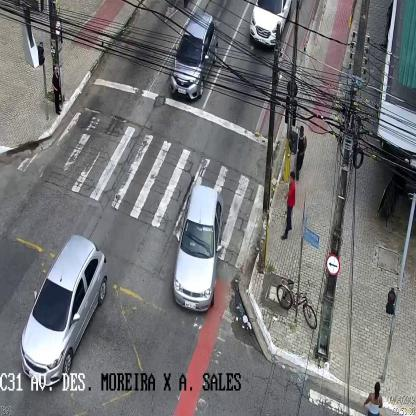bicycle: (276, 278, 317, 330)
car: (21, 234, 110, 384), (173, 186, 221, 316), (169, 9, 217, 103), (249, 2, 292, 45)
person: (281, 167, 296, 242), (293, 122, 305, 182), (364, 382, 383, 416), (52, 63, 63, 113)
